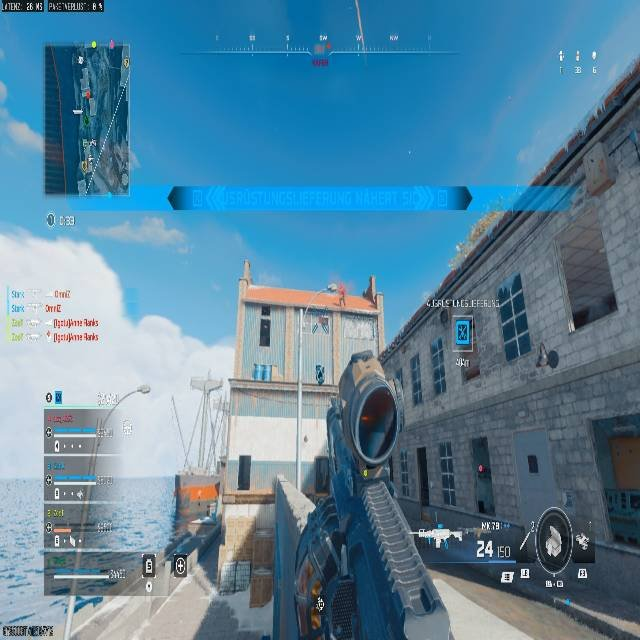head: (334, 354, 404, 457)
player: (293, 350, 464, 639), (315, 362, 324, 385)
